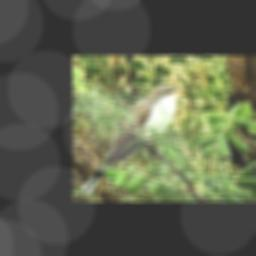Cuckoo: (81, 84, 190, 192)
